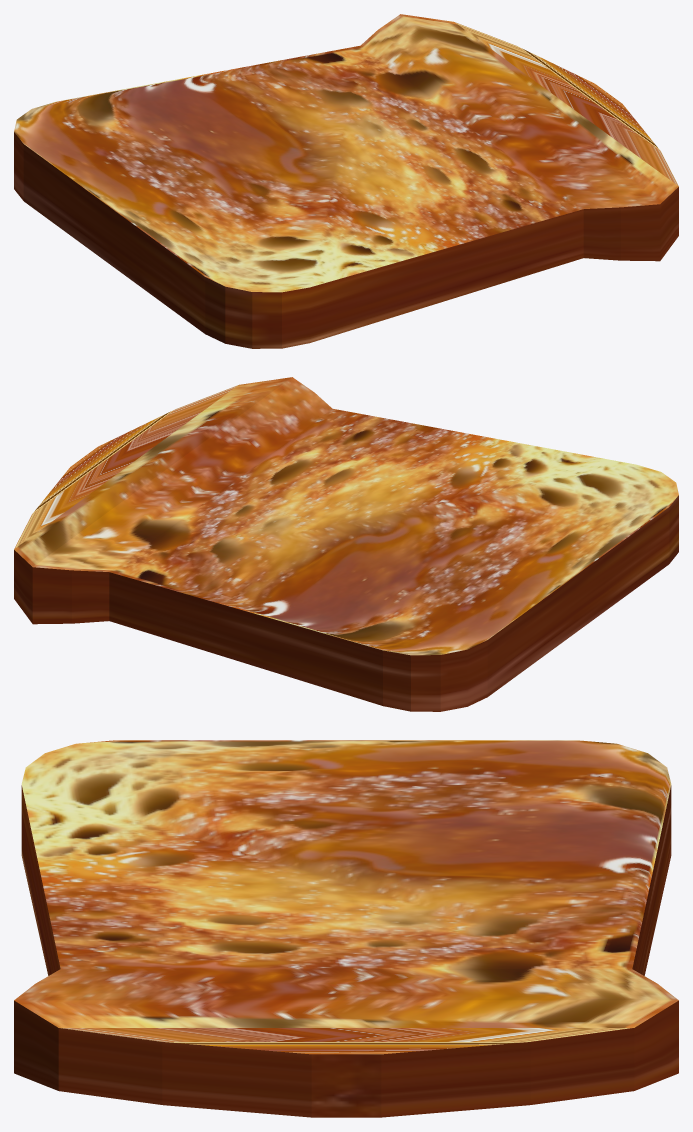
The model's file is tostada.fbx.
3 views of the same model, one above another, from view 1: azimuth 30°, elevation 25°; view 2: azimuth 150°, elevation 25°; view 3: azimuth 270°, elevation 25° (orthographic). The views are drawn at different scales.
Parts seen in each view (by area): view 1: Cube; view 2: Cube; view 3: Cube.
Part boxes in pixels (x1=…): Cube: x1=14, y1=14, x2=678, y2=348; Cube: x1=14, y1=377, x2=678, y2=711; Cube: x1=14, y1=740, x2=678, y2=1117.
Bounding box in the file's own units: 219 × 24.22 × 199.
2 materials, 2 textured.
